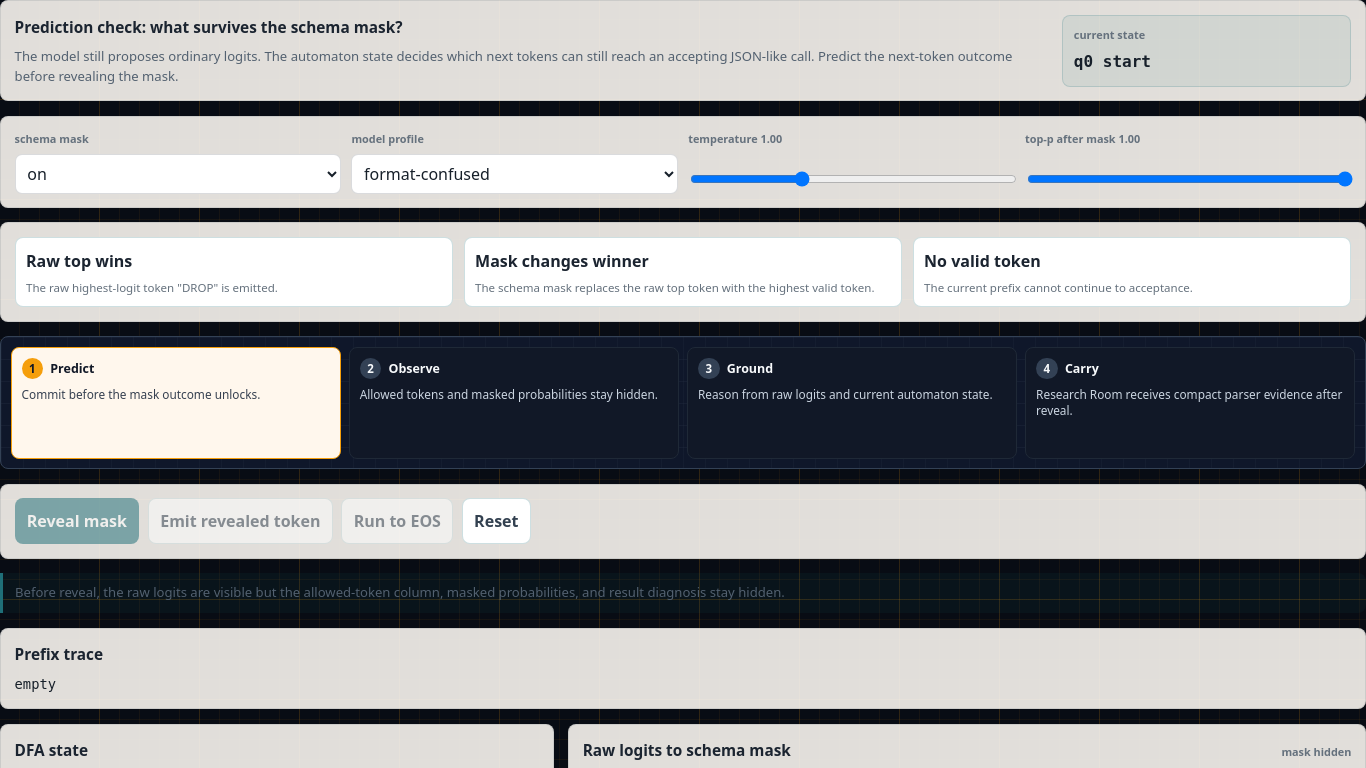
it: StructuredDecodingViz valid-token mask reveal › clears stale reveal and shared state when a notebook control changes
Click the button "Mask changes winner". click: (562, 261)
box: [464,237,902,307]
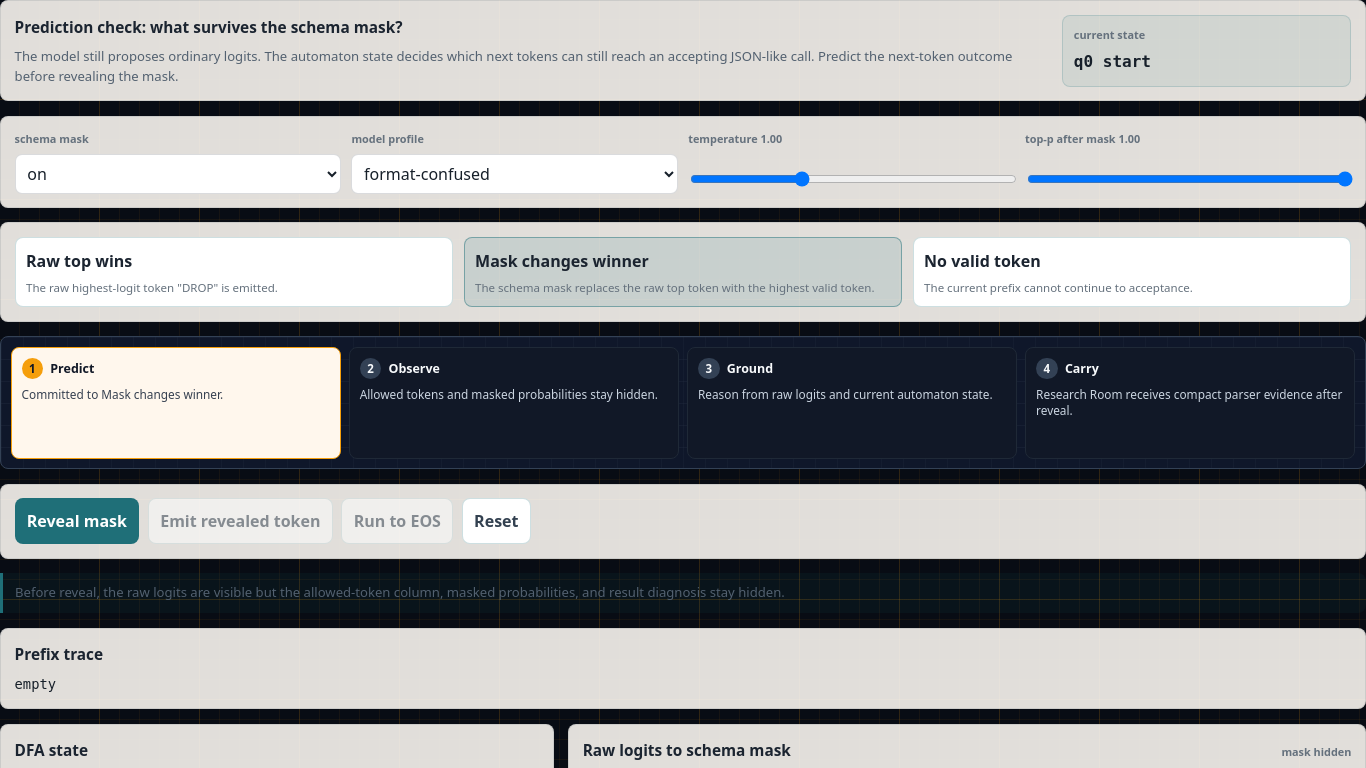
Click the button "Reveal mask". click: (77, 521)
box: [15,498,139,544]
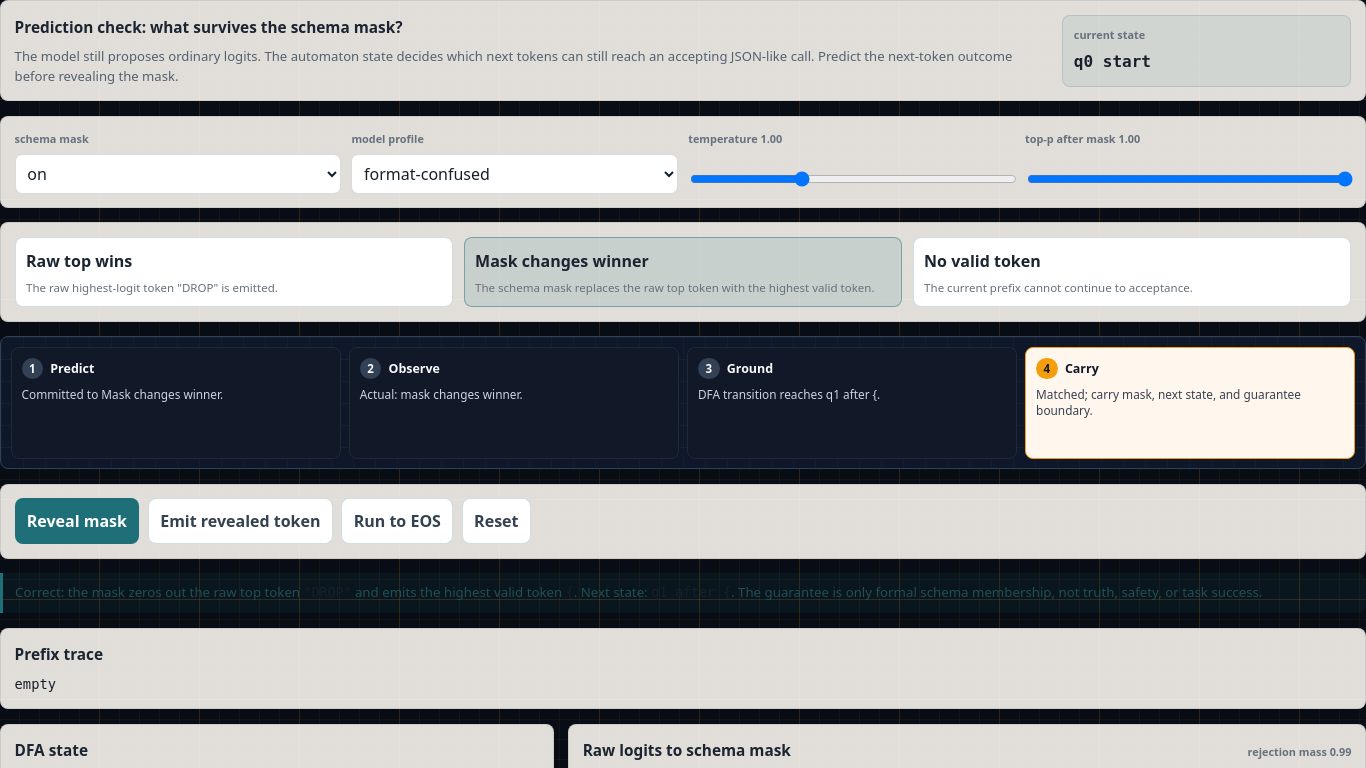
Check: the text "Correct:" is shown, box [15,583,68,601]
Select "schema-friendly" in the dropdown labelled "model profile". click: (515, 174)
box: [351,154,678,194]
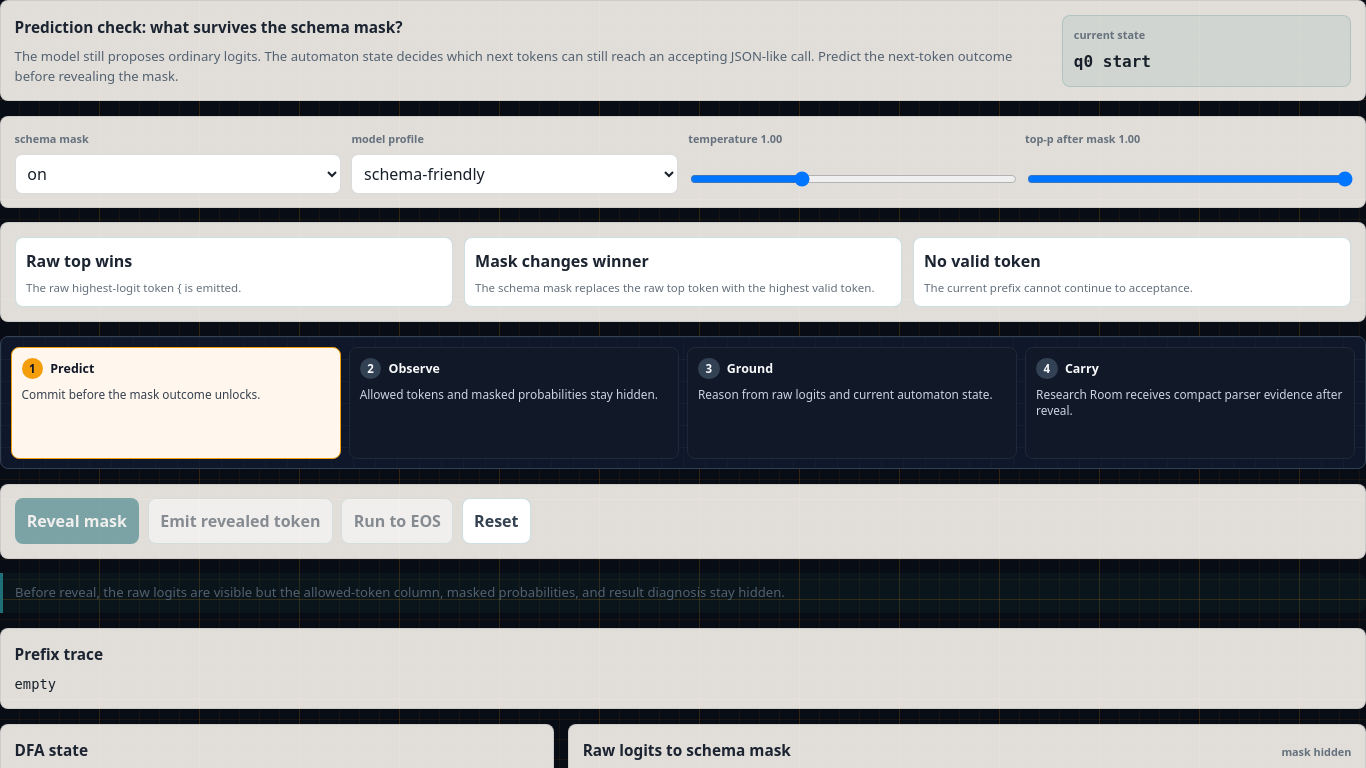
Check: the text "Correct:" is gone
Check: the text "rejection mass" is gone
Check: the button "Reveal mask" is disabled, box [15,498,139,544]
